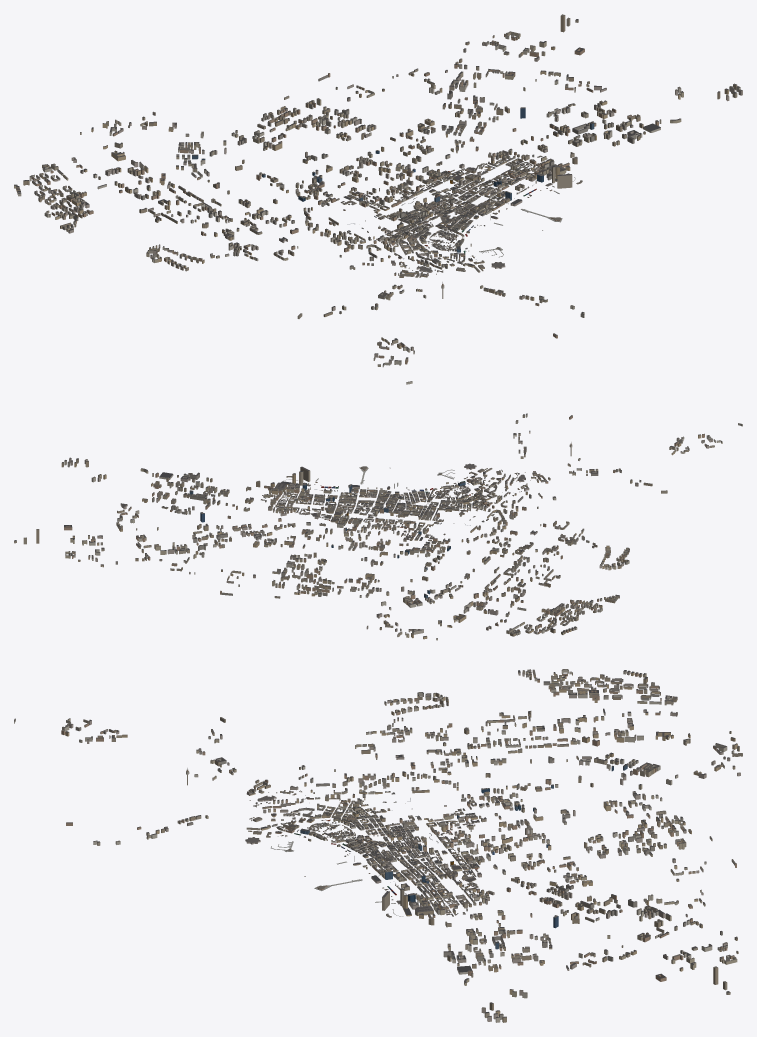
The model's file is scenery.glb.
The picture shows the model from 3 angles, top to bottom: view 1: azimuth 30°, elevation 25°; view 2: azimuth 150°, elevation 25°; view 3: azimuth 270°, elevation 25°; orthographic projection. The views are drawn at different scales.
Size of the model in its own units: 9150 by 374 by 8332.
